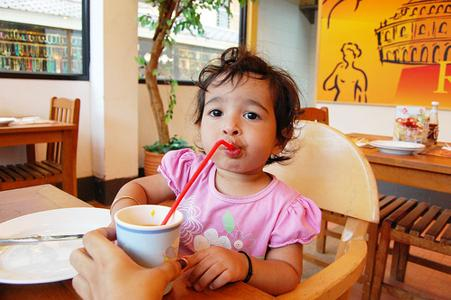person: (102, 45, 325, 296)
